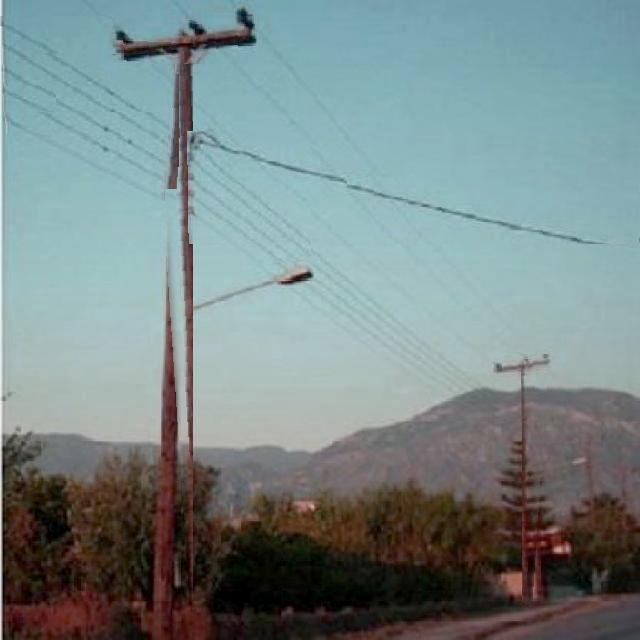crossarm: (115, 15, 257, 64), (495, 354, 552, 372)
pole: (180, 24, 193, 639), (522, 370, 536, 606)
wire: (188, 132, 621, 244), (201, 146, 347, 280), (1, 16, 178, 121), (257, 23, 378, 173), (9, 71, 177, 167), (9, 53, 172, 149), (10, 112, 166, 202), (195, 183, 311, 263), (57, 119, 166, 189), (3, 87, 56, 115)
